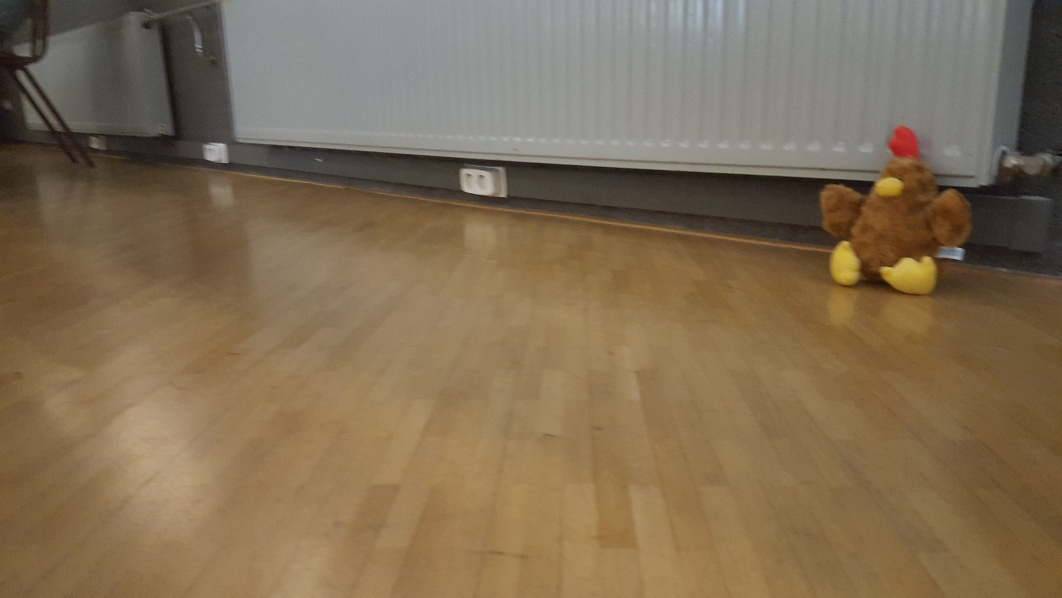chicken: (818, 128, 968, 303)
